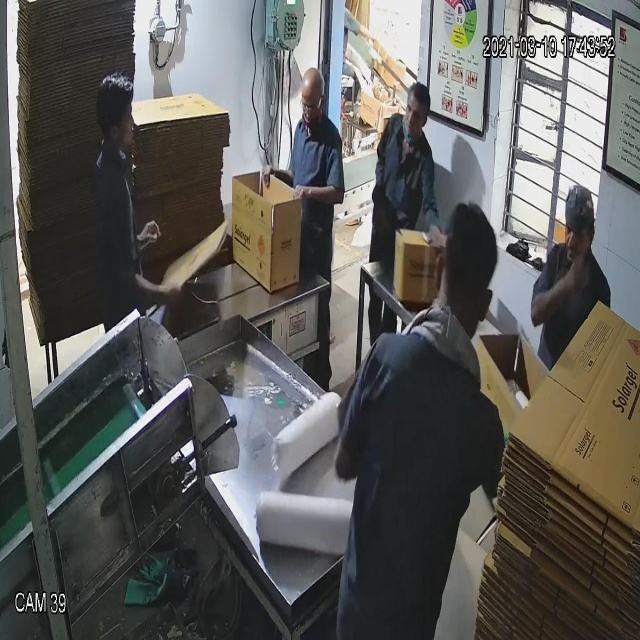Sin_guantes: (519, 257, 587, 340), (118, 253, 185, 319), (291, 174, 348, 213)
